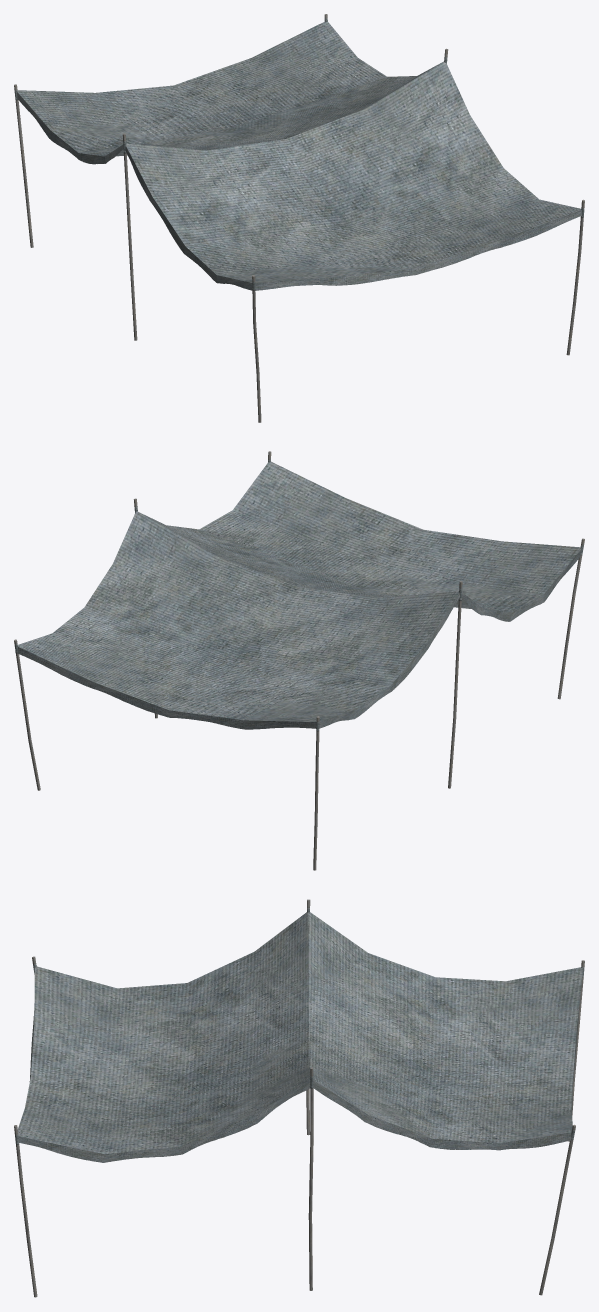
Rendered from poi_all_tent_med_l0.fbx.
3 views of the same model, one above another, from view 1: azimuth 30°, elevation 25°; view 2: azimuth 150°, elevation 25°; view 3: azimuth 270°, elevation 25° (orthographic). The views are drawn at different scales.
Visible parts, largest first — view 1: mesh_node; view 2: mesh_node; view 3: mesh_node.
Part boxes in pixels (x1,y1,x2,y2): mesh_node: (14,14,584,422); mesh_node: (14,451,584,870); mesh_node: (14,899,584,1297).
Bounding box in the file's own units: 6.55 × 4.08 × 9.03.
